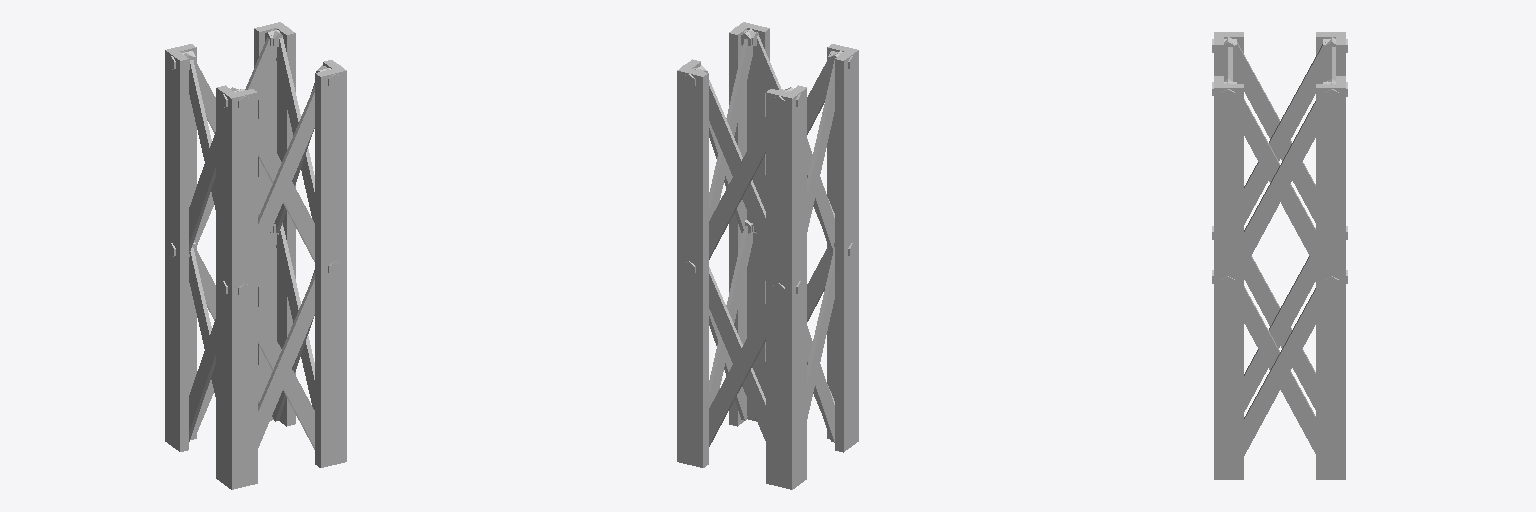
The model's file is lms_signal_gantry_lattic_mid.obj.
3 views of the same model, side by side, from view 1: azimuth 30°, elevation 25°; view 2: azimuth 150°, elevation 25°; view 3: azimuth 270°, elevation 25° (orthographic).
Visible parts, largest first — view 1: gantry_mid_Cube.013; view 2: gantry_mid_Cube.013; view 3: gantry_mid_Cube.013.
Part boxes in pixels (x1,y1,x2,y2): gantry_mid_Cube.013: (165,22,346,489); gantry_mid_Cube.013: (677,22,858,489); gantry_mid_Cube.013: (1212,32,1347,479).
Bounding box in the file's own units: 0.316 × 1 × 0.316.